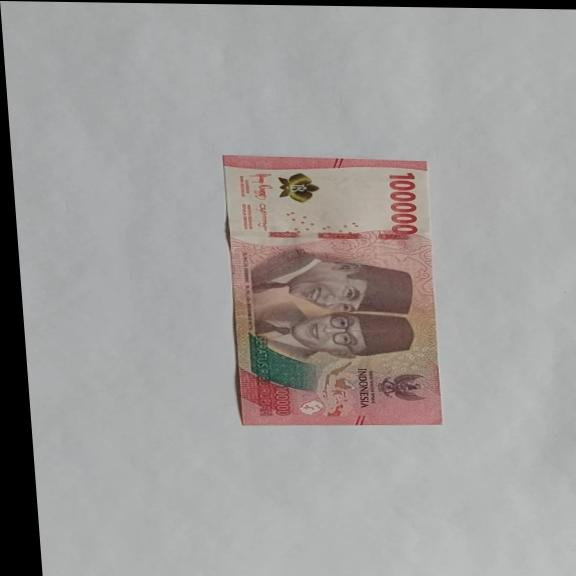Kertas: (217, 154, 447, 429), (384, 171, 421, 235)
